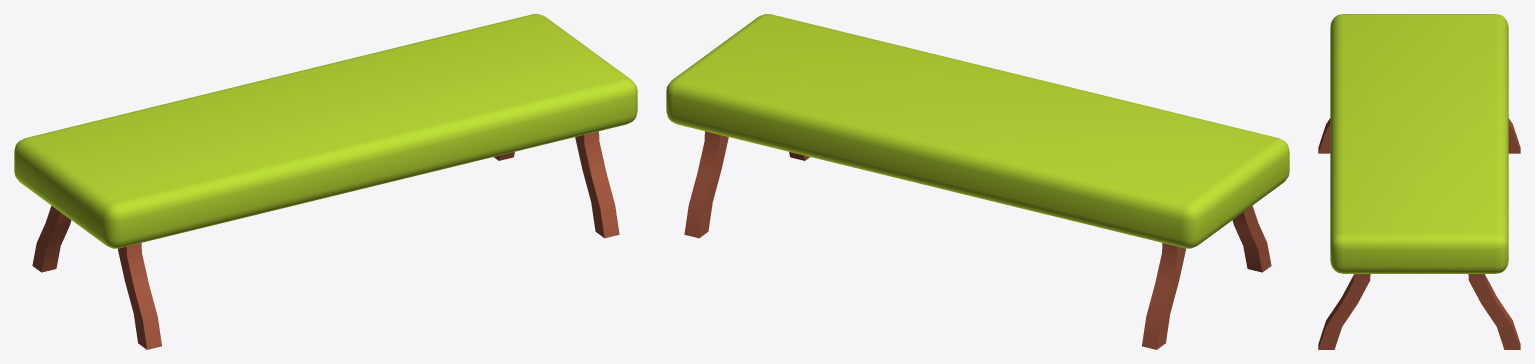
File: Bench.fbx
The picture shows the model from 3 angles, left to right: view 1: azimuth 30°, elevation 25°; view 2: azimuth 150°, elevation 25°; view 3: azimuth 270°, elevation 25°; orthographic projection. The views are drawn at different scales.
Parts seen in each view (by area): view 1: Cube.011; view 2: Cube.011; view 3: Cube.011.
Part boxes in pixels (bbox=[...]): Cube.011: bbox=[14, 14, 637, 349]; Cube.011: bbox=[666, 14, 1289, 349]; Cube.011: bbox=[1318, 14, 1520, 349].
Size of the model in its own units: 2 by 0.5073 by 0.7466.
